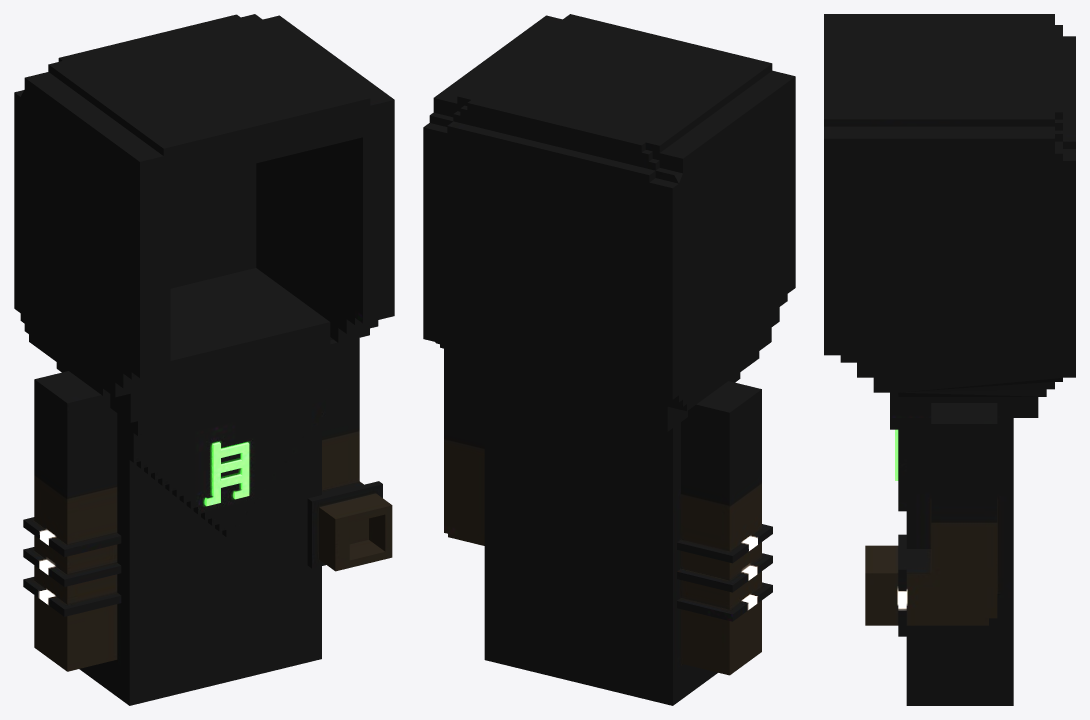
Rendered from cyber_hoodie_green.glb.
The picture shows the model from 3 angles, left to right: view 1: azimuth 30°, elevation 25°; view 2: azimuth 150°, elevation 25°; view 3: azimuth 270°, elevation 25°; orthographic projection. The views are drawn at different scales.
Parts seen in each view (by area): view 1: cyber_hoodie.001; view 2: cyber_hoodie.001; view 3: cyber_hoodie.001.
Boxes of the visible parts, box(x1,y1,x2,y2) form: cyber_hoodie.001: box(14, 14, 394, 705); cyber_hoodie.001: box(423, 14, 795, 705); cyber_hoodie.001: box(824, 14, 1075, 705).
Size of the model in its own units: 4.3 by 7.9 by 3.05.
Materials: 1 (1 with a texture image).
